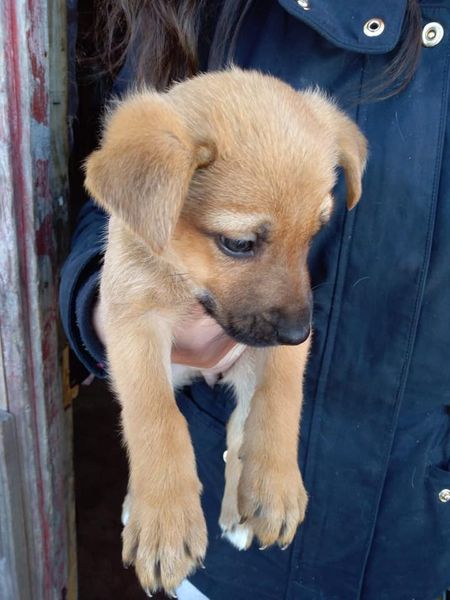dog: (56, 64, 372, 588)
